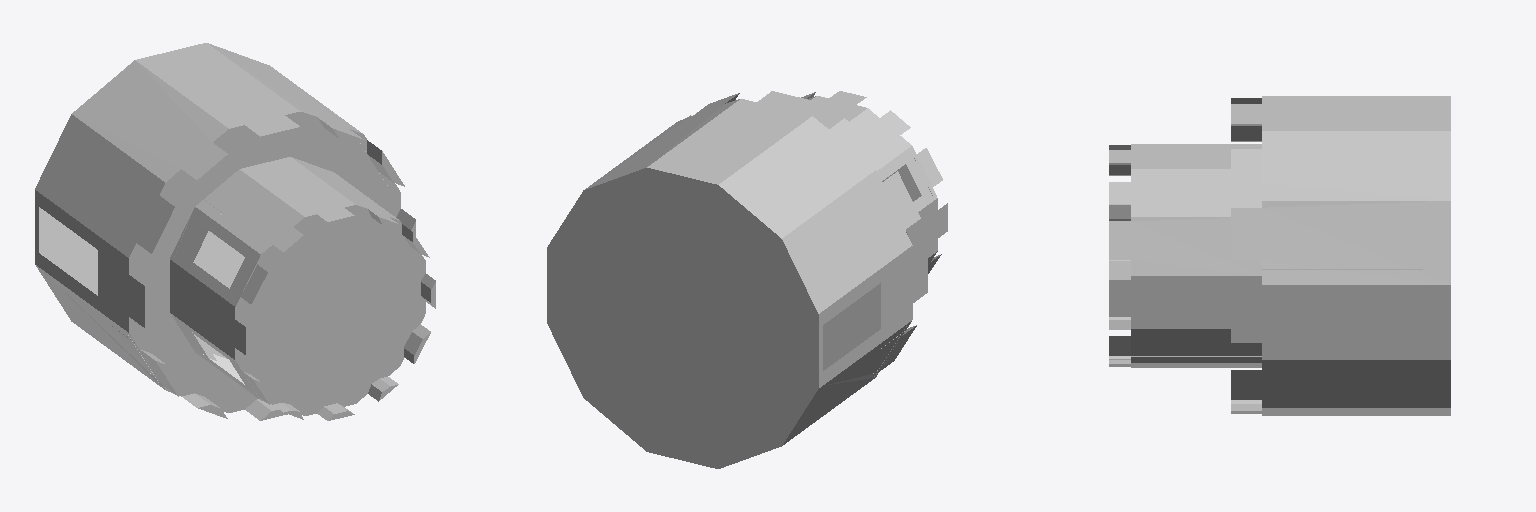
File: castle_night.obj
The picture shows the model from 3 angles: view 1: azimuth 30°, elevation 25°; view 2: azimuth 150°, elevation 25°; view 3: azimuth 270°, elevation 25°; orthographic projection.
Parts seen in each view (by area): view 1: castle; view 2: castle; view 3: castle.
Boxes of the visible parts, x1=… form: castle: x1=35, y1=43, x2=435, y2=420; castle: x1=547, y1=91, x2=947, y2=468; castle: x1=1109, y1=96, x2=1450, y2=415.
Size of the model in its own units: 160 by 160 by 174.